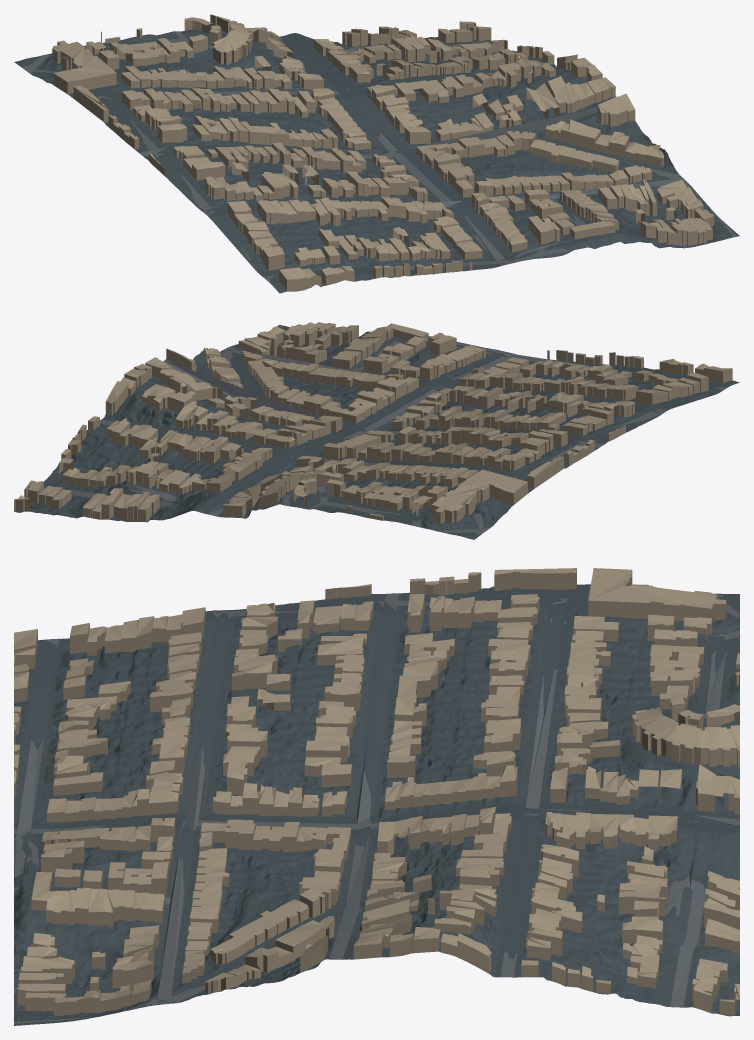
Rendered from epsg26910-1431-10879.lod0.glb.
3 views of the same model, one above another, from view 1: azimuth 30°, elevation 25°; view 2: azimuth 150°, elevation 25°; view 3: azimuth 270°, elevation 25° (orthographic). The views are drawn at different scales.
Visible parts, largest first — view 1: epsg26910-1431-10879-lod0; view 2: epsg26910-1431-10879-lod0; view 3: epsg26910-1431-10879-lod0.
Part boxes in pixels (x1=…): epsg26910-1431-10879-lod0: x1=14, y1=14, x2=739, y2=293; epsg26910-1431-10879-lod0: x1=14, y1=322, x2=739, y2=539; epsg26910-1431-10879-lod0: x1=14, y1=568, x2=739, y2=1025.
Bounding box in the file's own units: 384 × 89.25 × 384.
